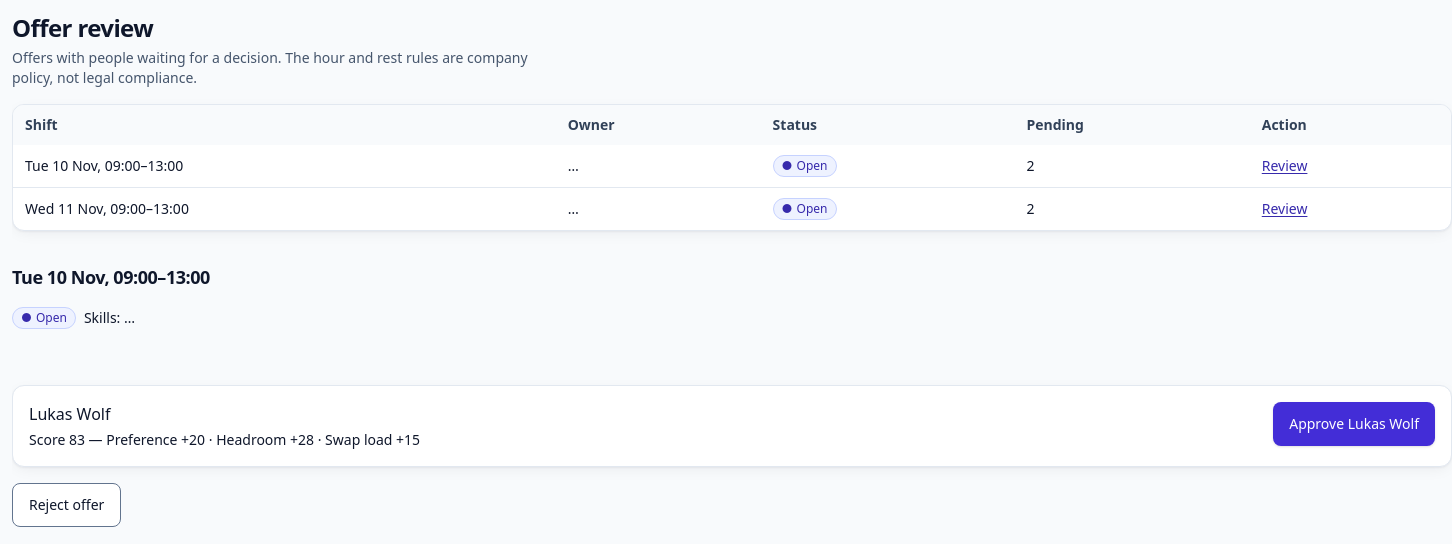
it: OfferReviewPage › focuses the detail heading and clears the notice when switching offers
Click the button "Approve Lukas Wolf": (1354, 424) [1273,402,1435,446]
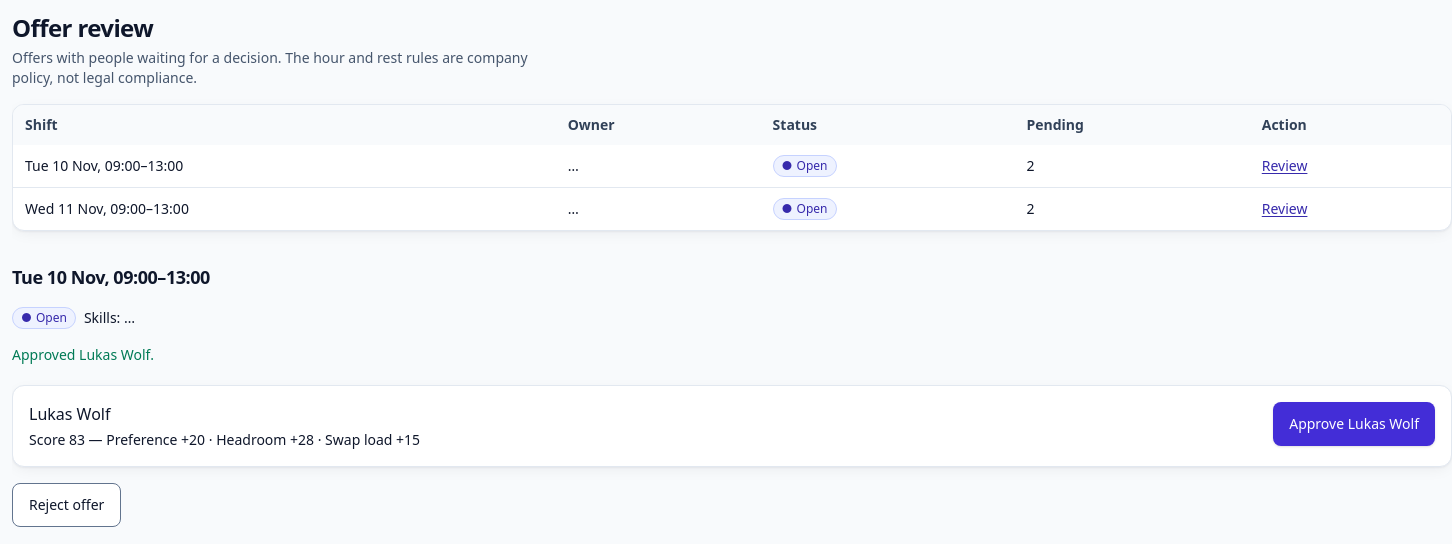
Check: the text "Approved Lukas Wolf." is shown, box [12,345,154,364]
Click the link with aria-label "Review Wed 11 Nov, 09:00–13:00": (1285, 208) [1262,199,1308,218]
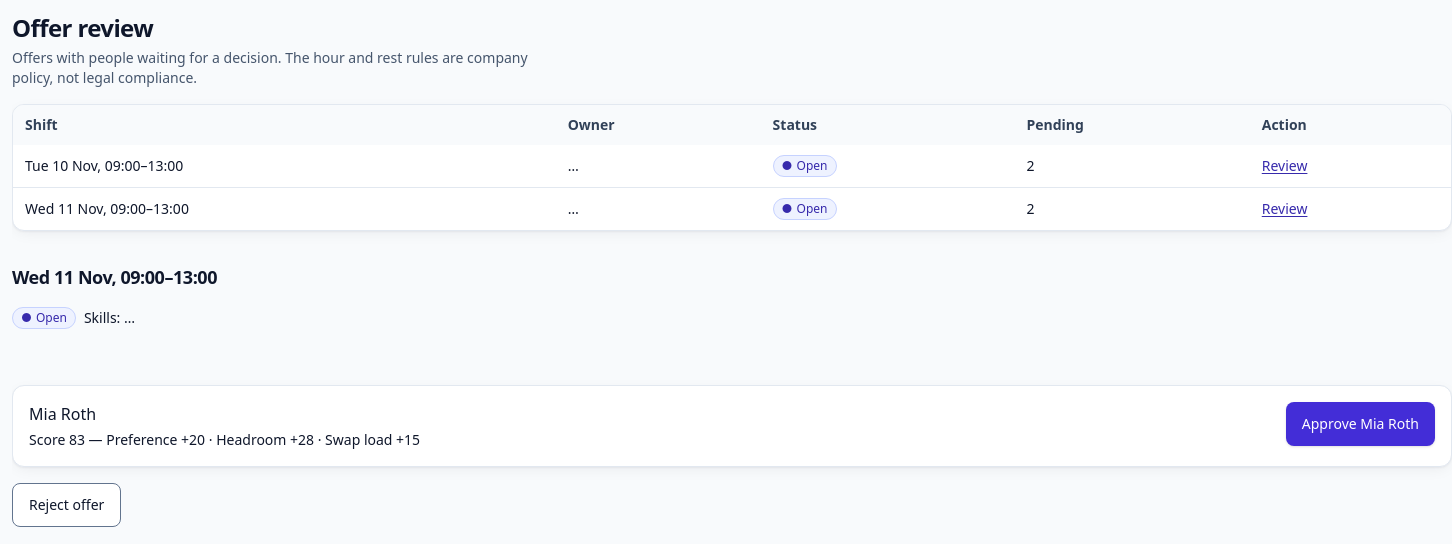
Check: the button "Approve Mia Roth" is shown, box [1286,402,1435,446]
Check: the text "Approved Lukas Wolf." is gone
